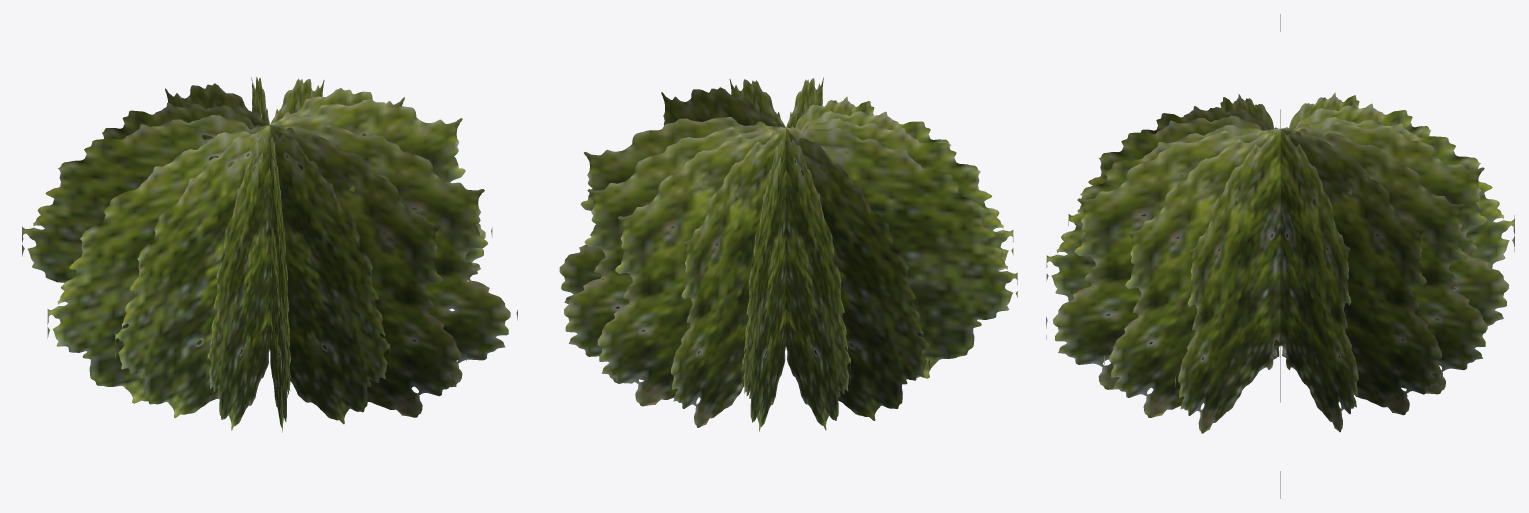
Rendered from Bush.fbx.
3 views of the same model, side by side, from view 1: azimuth 30°, elevation 25°; view 2: azimuth 150°, elevation 25°; view 3: azimuth 270°, elevation 25° (orthographic). The views are drawn at different scales.
Visible parts, largest first — view 1: Cylinder.001; view 2: Cylinder.001; view 3: Cylinder.001.
Part boxes in pixels (x1,y1,x2,y2): Cylinder.001: (22, 77, 517, 432); Cylinder.001: (559, 77, 1017, 431); Cylinder.001: (1046, 14, 1514, 498).
Bounding box in the file's own units: 1485 × 901 × 1395.
